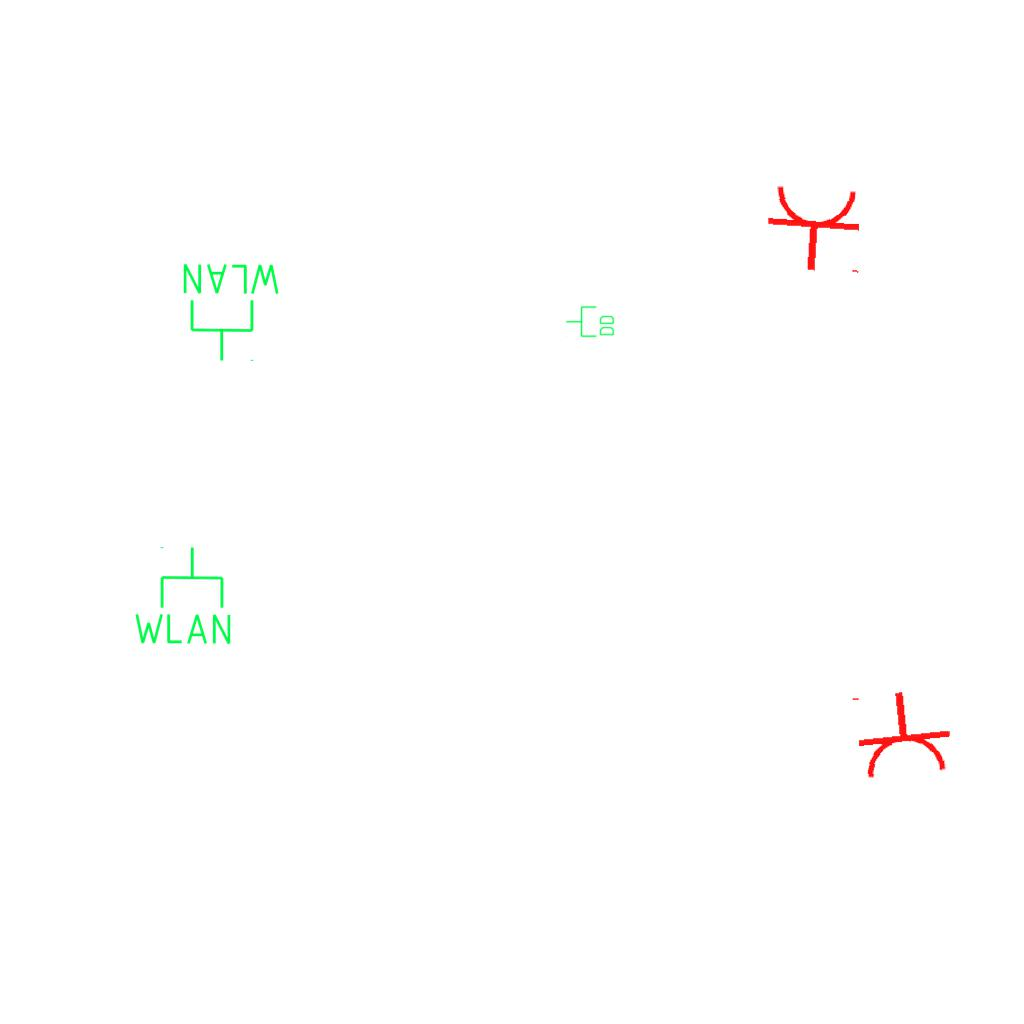Datenanschluss_zweifach: (565, 305, 616, 339)
Schukosteckdose_einfach: (847, 685, 956, 783), (762, 182, 869, 276)
WLAN: (130, 544, 235, 648), (179, 260, 284, 364)
